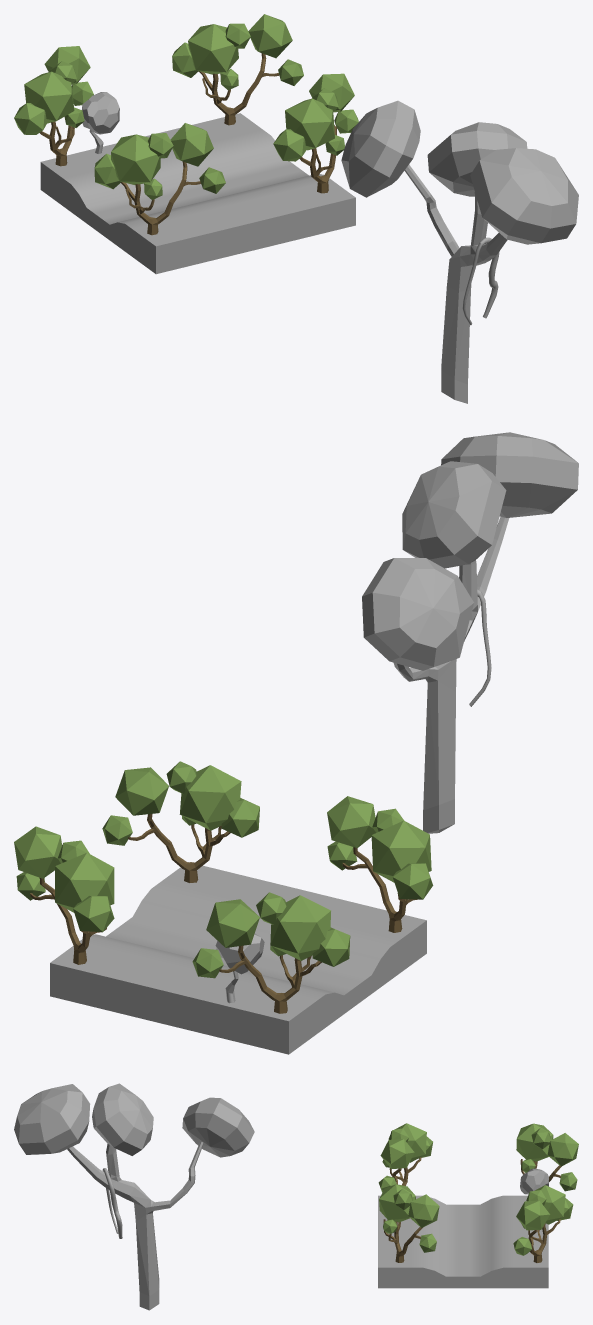
The model's file is RainForest.fbx.
The picture shows the model from 3 angles, top to bottom: view 1: azimuth 30°, elevation 25°; view 2: azimuth 150°, elevation 25°; view 3: azimuth 270°, elevation 25°; orthographic projection. The views are drawn at different scales.
Visible parts, largest first — view 1: pCube1, pSphere1, Tree2, Tree, pCylinder1, pSphere3, Tree1, Tree3, pSphere2, Tree_low:Hedra001, pCylinder2; view 2: pCube1, pSphere3, Tree3, pSphere2, Tree1, Tree, Tree2, pCylinder1, pSphere1, Tree_low:Hedra001; view 3: pCube1, pSphere1, pCylinder1, pSphere2, pSphere3, Tree1, Tree2, Tree3, Tree, Tree_low:Hedra001, pCylinder2.
Boxes of the visible parts, x1,y1,x2,y2 form: pCube1: (40,113,355,274); pSphere1: (470,148,578,244); Tree2: (172,14,303,125); Tree: (94,123,225,235); pCylinder1: (404,164,507,403); pSphere3: (341,100,420,197); Tree1: (273,73,358,193); Tree3: (14,46,93,166); pSphere2: (427,122,527,196); Tree_low:Hedra001: (82,92,119,134); pCylinder2: (462,237,499,325); pCube1: (50,862,426,1054); pSphere3: (362,558,473,670); Tree3: (192,892,350,1013); pSphere2: (402,461,506,568); Tree1: (102,761,259,882); Tree: (327,796,433,932); Tree2: (14,826,114,964); pCylinder1: (393,517,509,833); pSphere1: (441,432,578,517); Tree_low:Hedra001: (215,933,264,974); pCube1: (378,1195,548,1288); pSphere1: (14,1084,90,1154); pCylinder1: (67,1141,203,1310); pSphere2: (92,1083,153,1155); pSphere3: (182,1097,254,1157); Tree1: (379,1184,439,1262); Tree2: (513,1185,573,1262); Tree3: (516,1123,578,1191); Tree: (378,1123,432,1192); Tree_low:Hedra001: (520,1168,548,1194); pCylinder2: (102,1168,122,1238).
Bounding box in the file's own units: 21.16 × 21.04 × 49.61.
